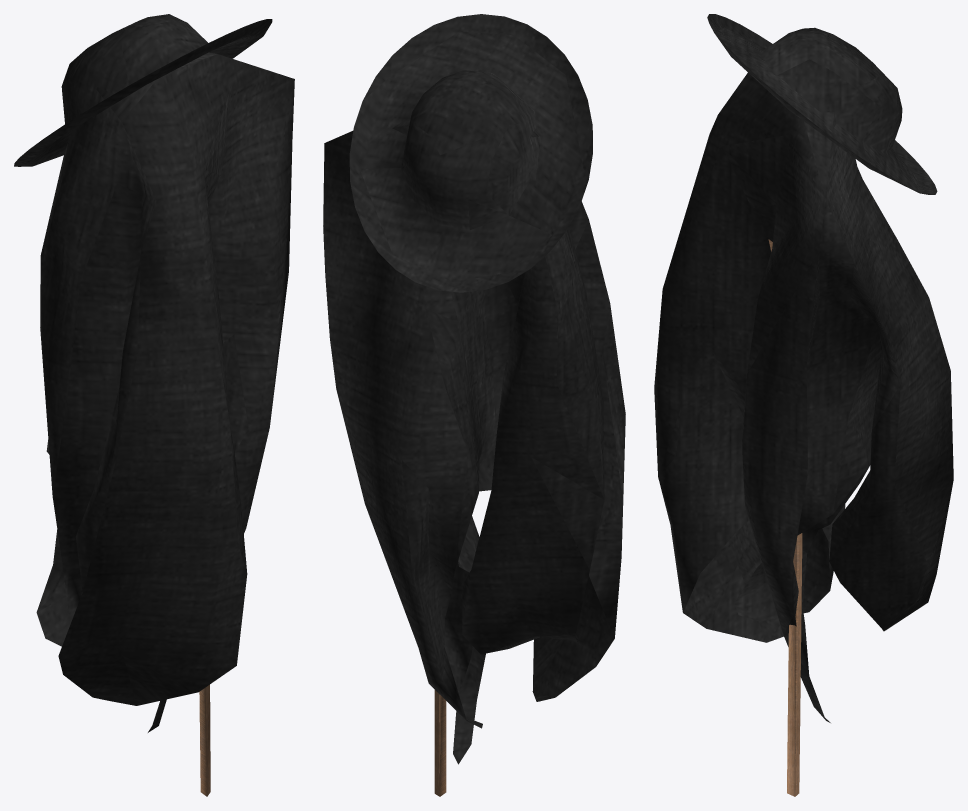
The model's file is costume.obj.
The picture shows the model from 3 angles, left to right: view 1: azimuth 30°, elevation 25°; view 2: azimuth 150°, elevation 25°; view 3: azimuth 270°, elevation 25°; orthographic projection. The views are drawn at different scales.
Visible parts, largest first — view 1: Sphere.003; view 2: Sphere.003; view 3: Sphere.003.
Part boxes in pixels (x1=…): Sphere.003: x1=14, y1=14, x2=294, y2=796; Sphere.003: x1=323, y1=14, x2=625, y2=796; Sphere.003: x1=654, y1=14, x2=953, y2=796.
Size of the model in its own units: 0.5662 by 1.59 by 0.5674.
Materials: 2 (2 with a texture image).
